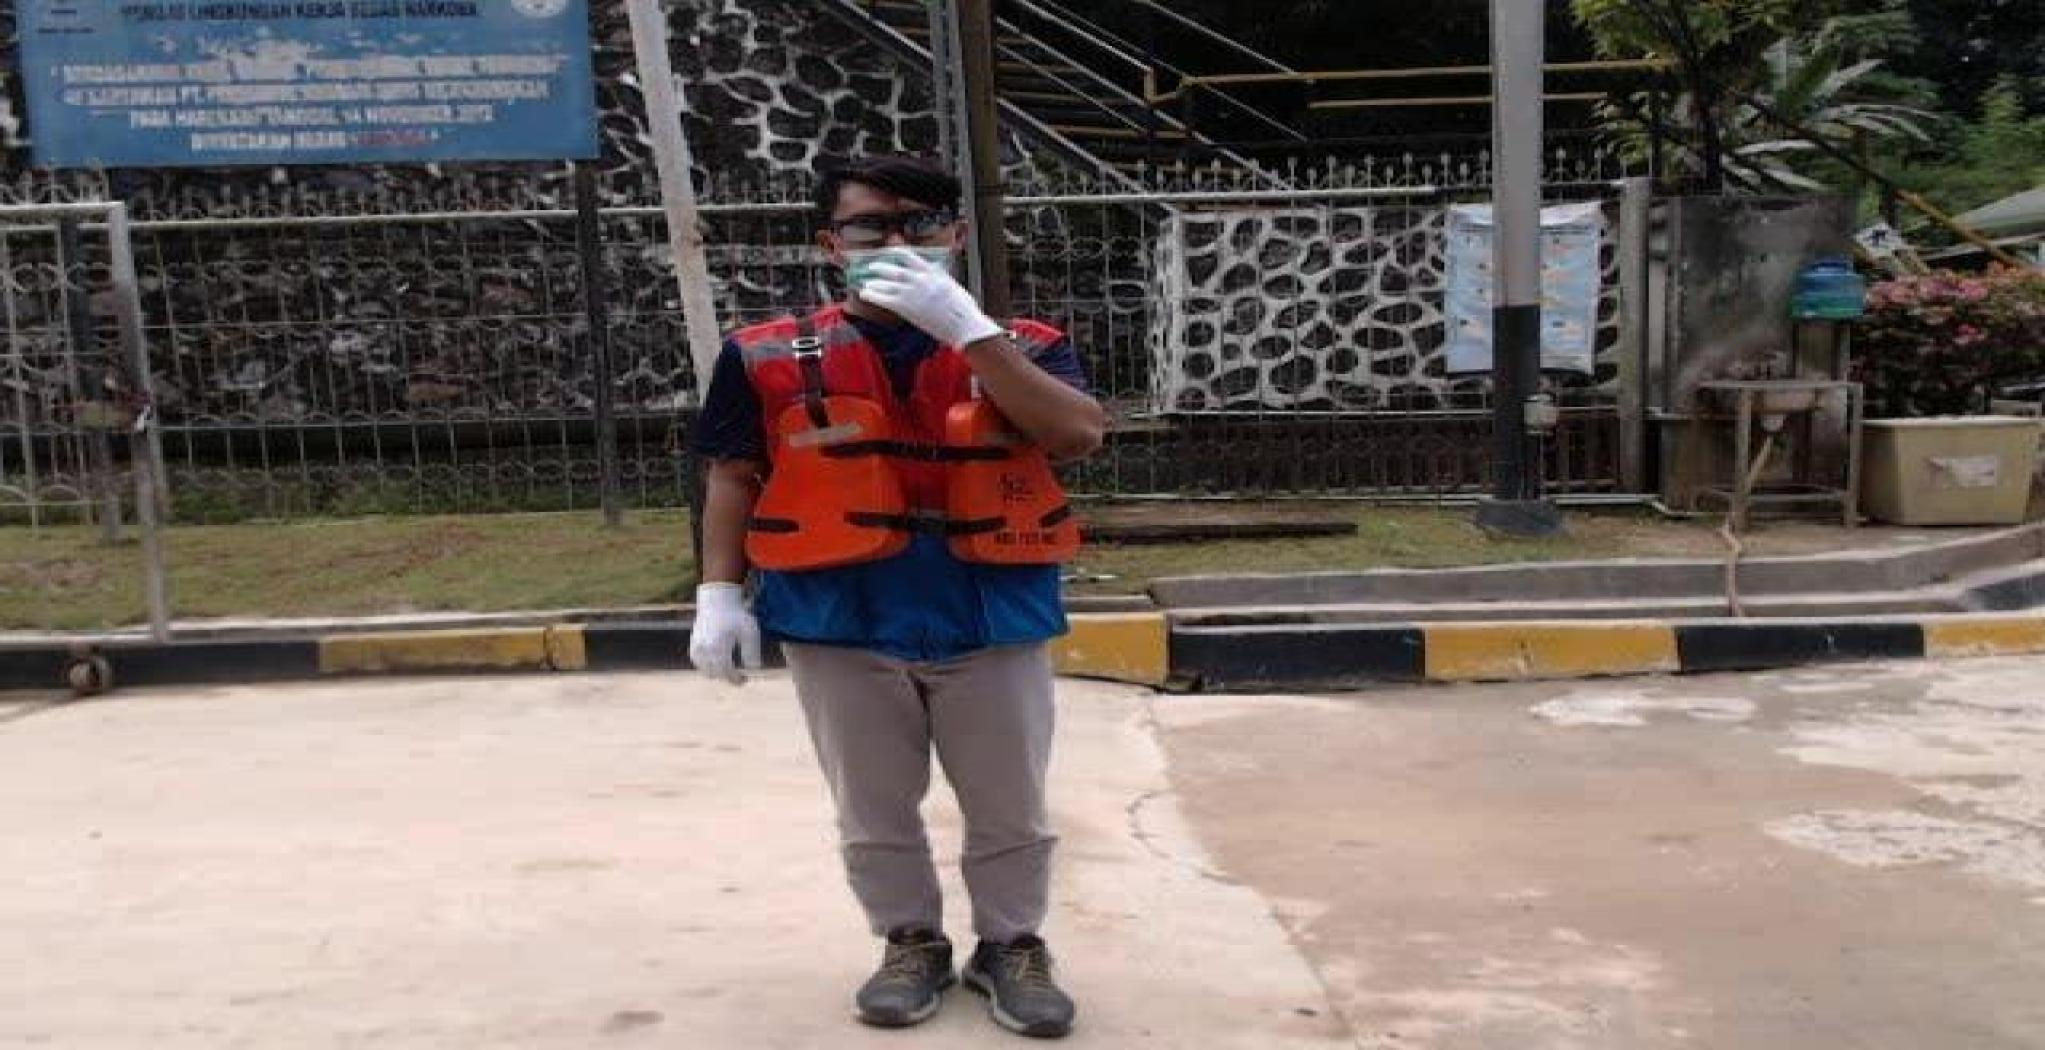gloved: (862, 242, 1000, 347), (684, 581, 761, 686)
